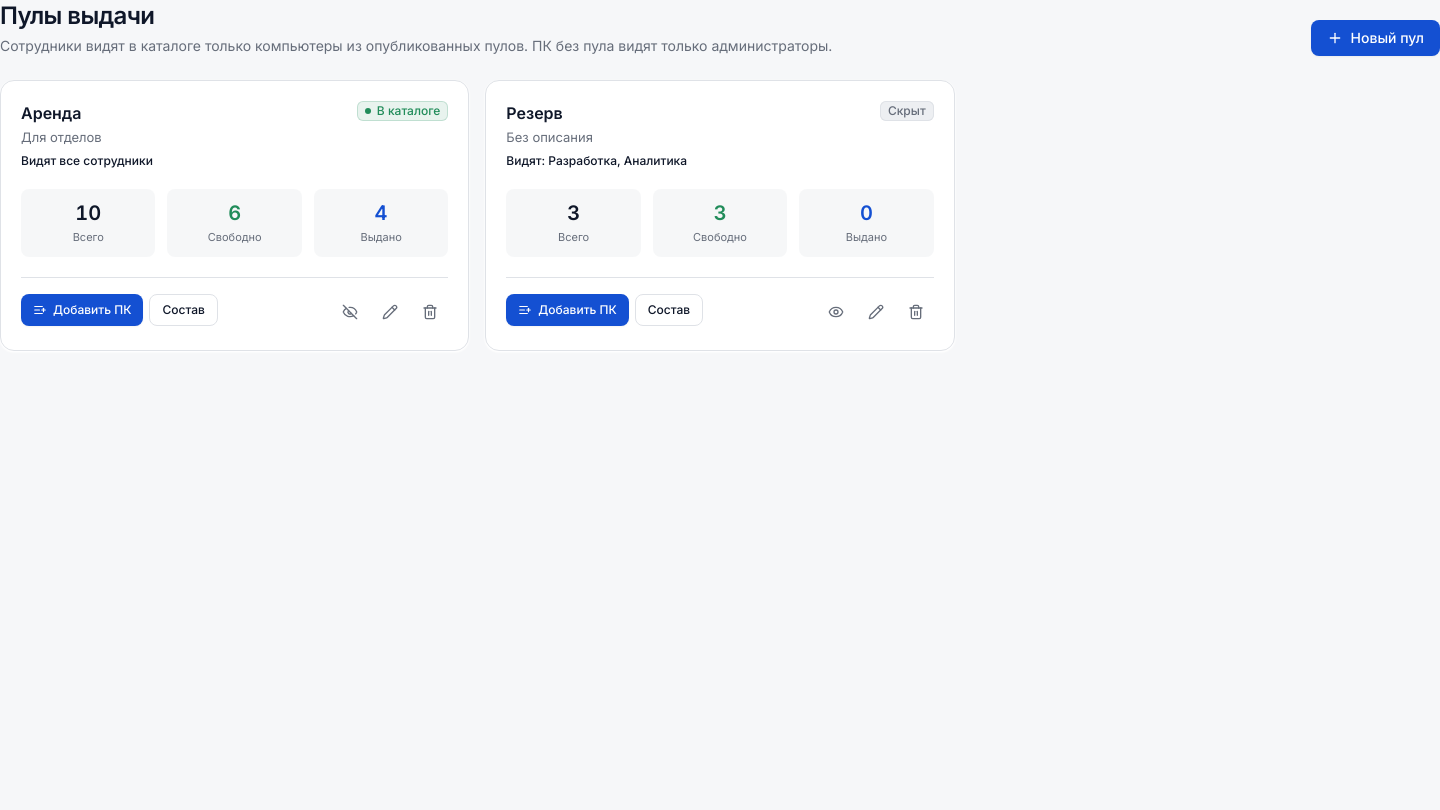
PoolsPage › ошибка загрузки отделов в окне пула: сообщение и «Повторить» вместо пустого списка отделов
The width and height of the screenshot is (1440, 810).
Expected: the text "Аренда" is shown, [21, 103, 81, 123]
Step 1. Click the button "Новый пул" → x=1375, y=38, box [1311, 20, 1439, 56]
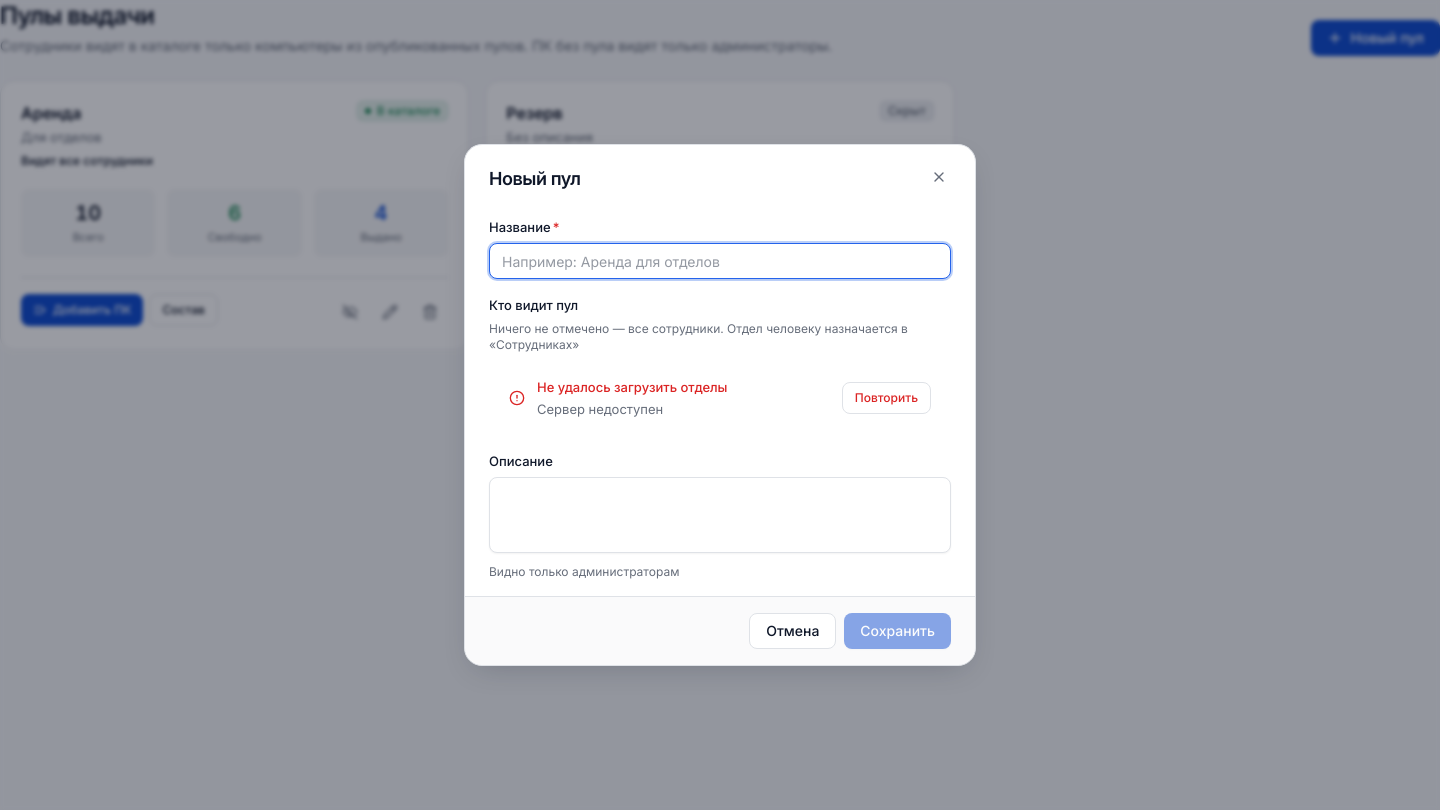
Result: the text "Не удалось загрузить отделы" is shown at [537, 377, 728, 397]
Step 2. Click the button "Повторить" → x=886, y=398, box [842, 382, 931, 414]
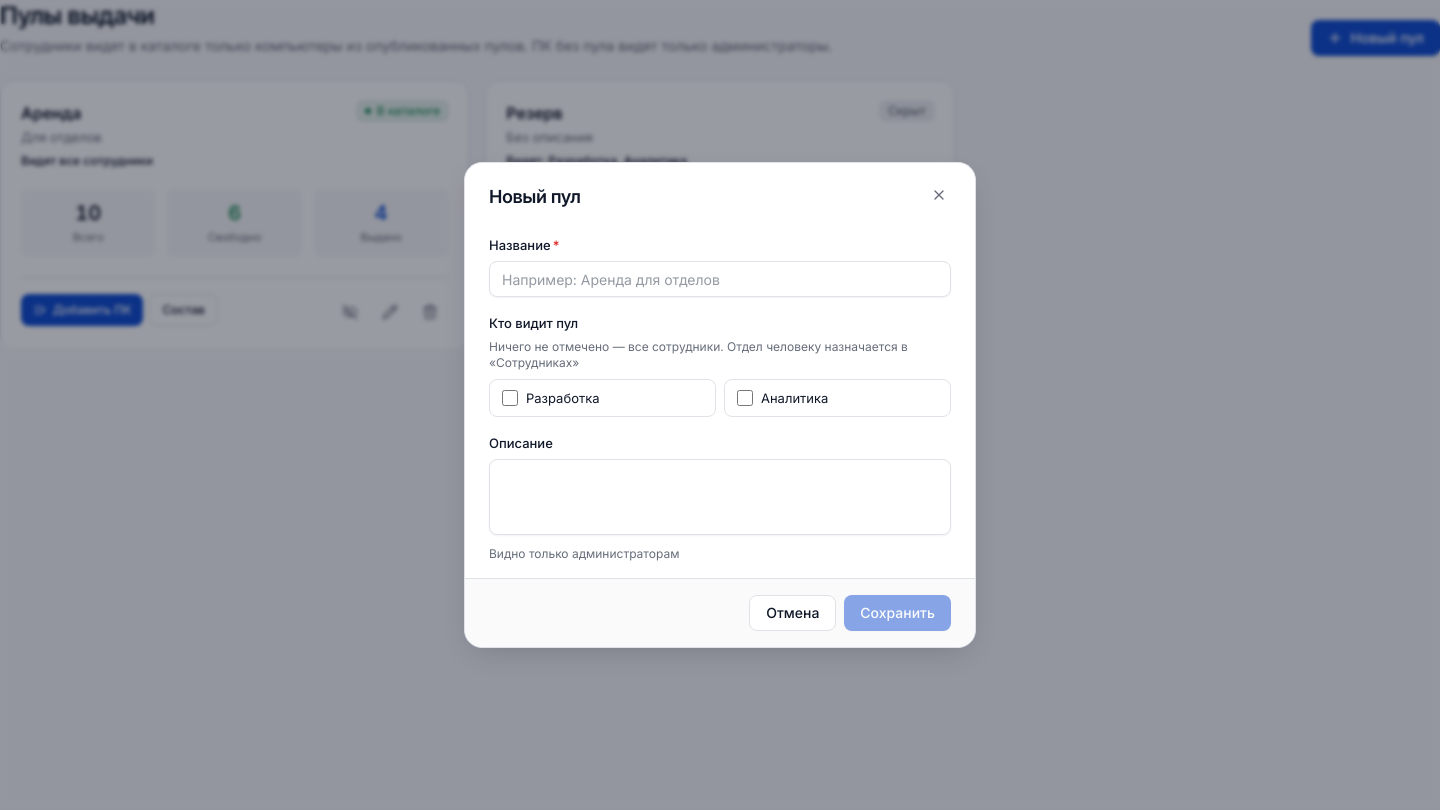
Result: the checkbox labelled "Аналитика" is shown at [737, 390, 753, 406]
Result: the message "Не удалось загрузить отделы Сервер недоступен Повторить" is gone
